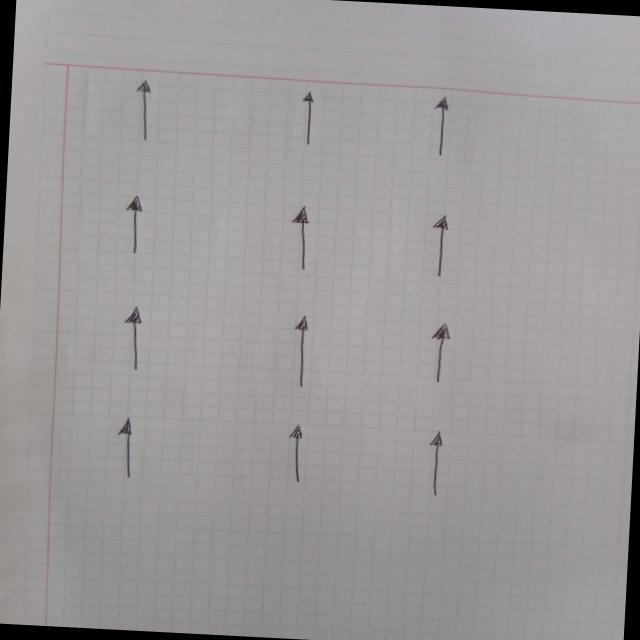arrow_line_up: (272, 312, 324, 400), (110, 71, 166, 151), (420, 97, 478, 168), (407, 215, 471, 277), (422, 315, 468, 399), (273, 416, 324, 491), (116, 303, 160, 385), (110, 195, 163, 258), (105, 412, 148, 486), (417, 424, 452, 500), (288, 206, 324, 278), (290, 92, 326, 152)
